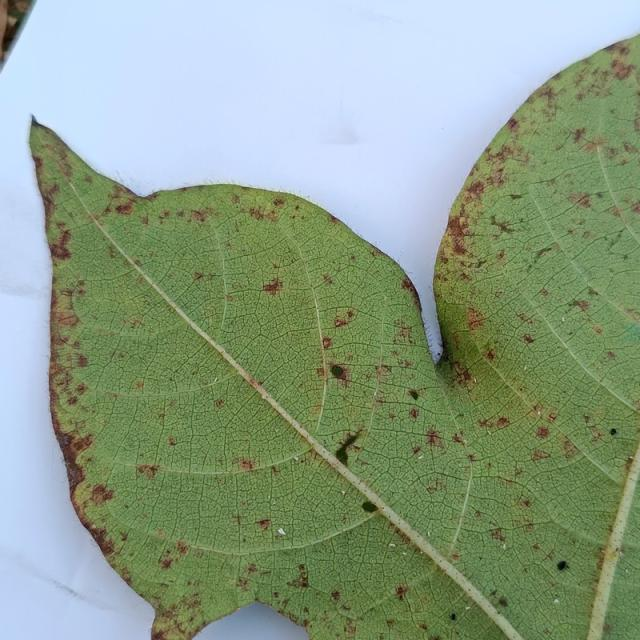Bacterial_Blight: (154, 593, 205, 634), (313, 357, 362, 391), (485, 139, 524, 171), (61, 443, 85, 495), (243, 198, 286, 223), (260, 269, 290, 304), (47, 224, 75, 261), (335, 431, 359, 465), (551, 554, 578, 584), (607, 54, 634, 81), (53, 302, 80, 329), (88, 481, 115, 506), (534, 85, 557, 114), (446, 215, 468, 241), (287, 564, 309, 590), (492, 217, 520, 235), (120, 315, 149, 331), (466, 307, 485, 331), (333, 309, 356, 328), (392, 319, 413, 339), (606, 232, 627, 252), (136, 464, 160, 480), (533, 245, 557, 261), (424, 428, 443, 447), (114, 200, 135, 216), (233, 457, 255, 472), (425, 477, 444, 494), (562, 438, 578, 458), (571, 127, 588, 144), (191, 270, 215, 282), (189, 209, 208, 223), (570, 299, 590, 312), (245, 375, 261, 390), (532, 449, 550, 462), (394, 585, 409, 600), (451, 432, 466, 446), (535, 426, 550, 440), (159, 556, 174, 570), (490, 528, 505, 542), (344, 621, 356, 638), (361, 501, 378, 513), (255, 518, 271, 530), (321, 273, 334, 286), (484, 348, 497, 361), (76, 354, 88, 367), (272, 197, 286, 208), (497, 417, 510, 428), (522, 334, 535, 345), (321, 337, 332, 349), (498, 596, 509, 608), (330, 590, 340, 602), (508, 193, 524, 200), (476, 259, 487, 269), (408, 390, 419, 400), (410, 408, 419, 420), (587, 287, 599, 296), (155, 529, 165, 539), (592, 325, 603, 334), (215, 399, 225, 408), (135, 380, 144, 390), (411, 446, 421, 455), (168, 437, 177, 446), (386, 619, 395, 628), (418, 623, 427, 632), (459, 216, 467, 226), (225, 294, 234, 302), (335, 319, 343, 327), (452, 553, 460, 560)
Cotton: (29, 35, 639, 639)
